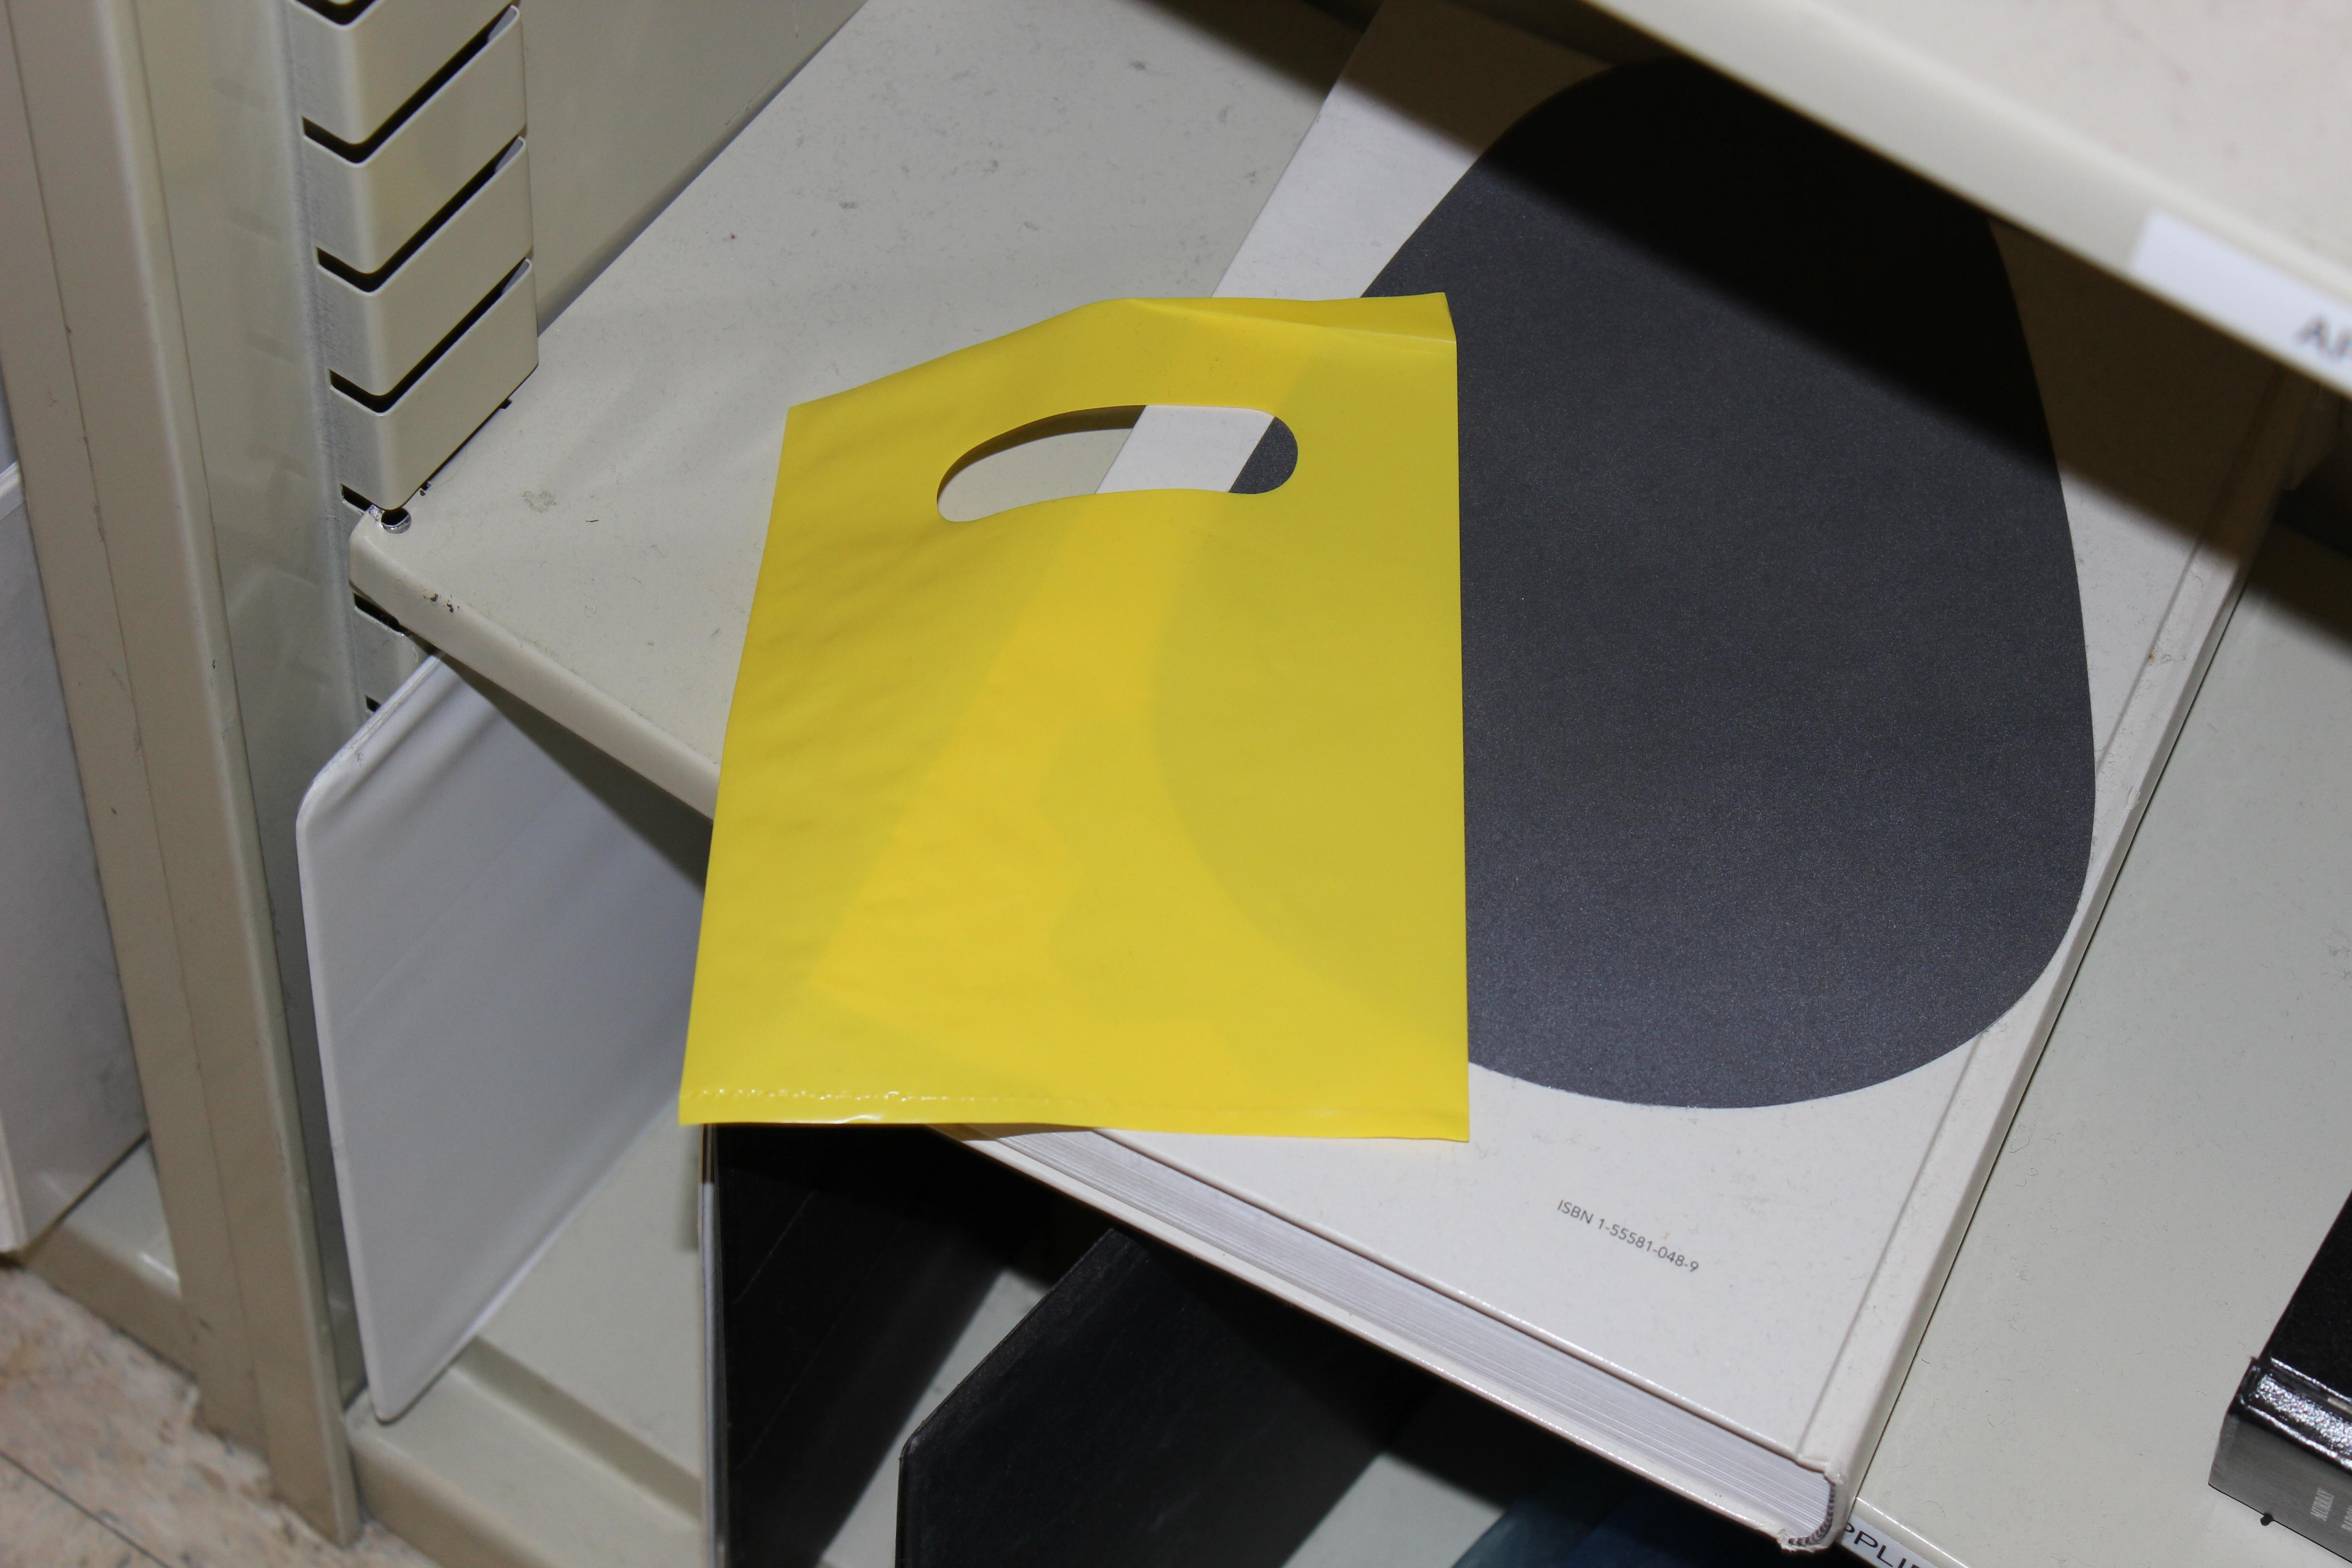yellowBag: (651, 247, 1535, 1199)
